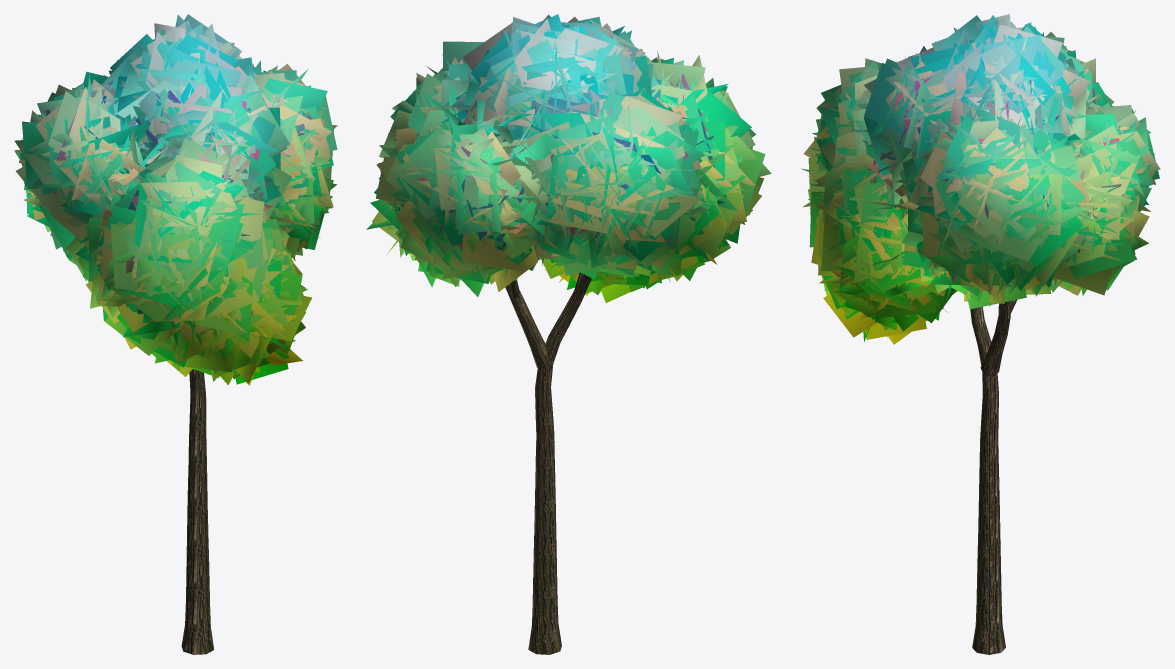
File: TR_Sau_0.fbx
The picture shows the model from 3 angles, left to right: view 1: azimuth 30°, elevation 25°; view 2: azimuth 150°, elevation 25°; view 3: azimuth 270°, elevation 25°; orthographic projection. The views are drawn at different scales.
Parts seen in each view (by area): view 1: TR_Sau_0_LOD0; view 2: TR_Sau_0_LOD0; view 3: TR_Sau_0_LOD0.
Part boxes in pixels (left/top/right/bottom): TR_Sau_0_LOD0: left=14, top=14, right=337, bottom=654; TR_Sau_0_LOD0: left=366, top=14, right=771, bottom=654; TR_Sau_0_LOD0: left=801, top=14, right=1160, bottom=654.
Size of what is drawn, in the model's own units: 7.45 by 14.82 by 7.81.
